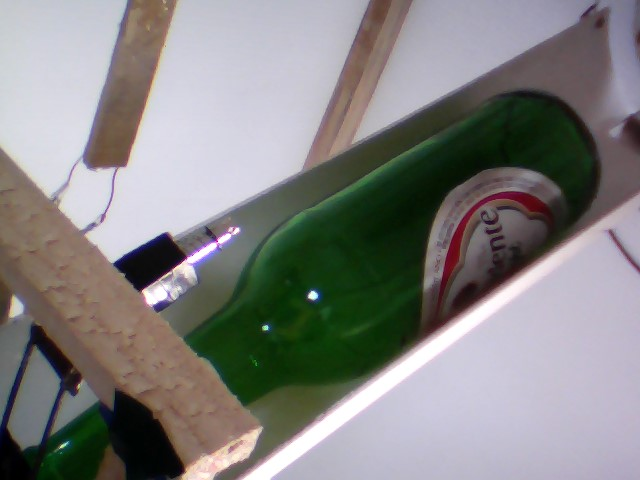vidrio: (175, 86, 605, 410)
